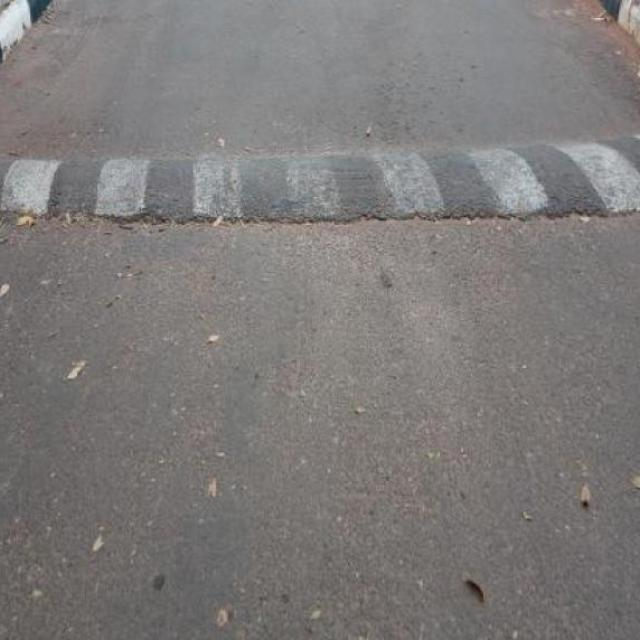Marked Bump: (0, 140, 635, 232)
